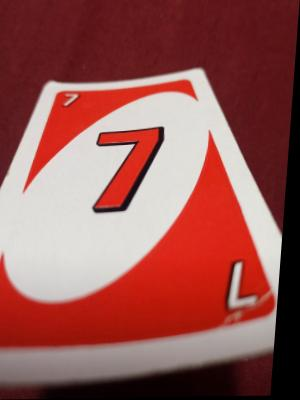num_7: (220, 249, 271, 324), (59, 82, 86, 112)
